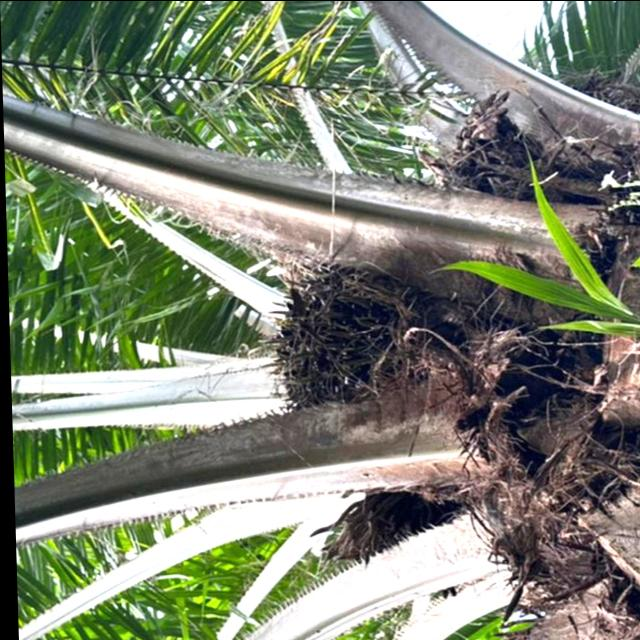unripe: (254, 257, 420, 419)
